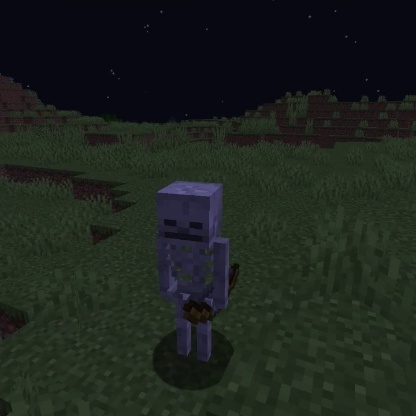skeleton: (152, 177, 242, 365)
